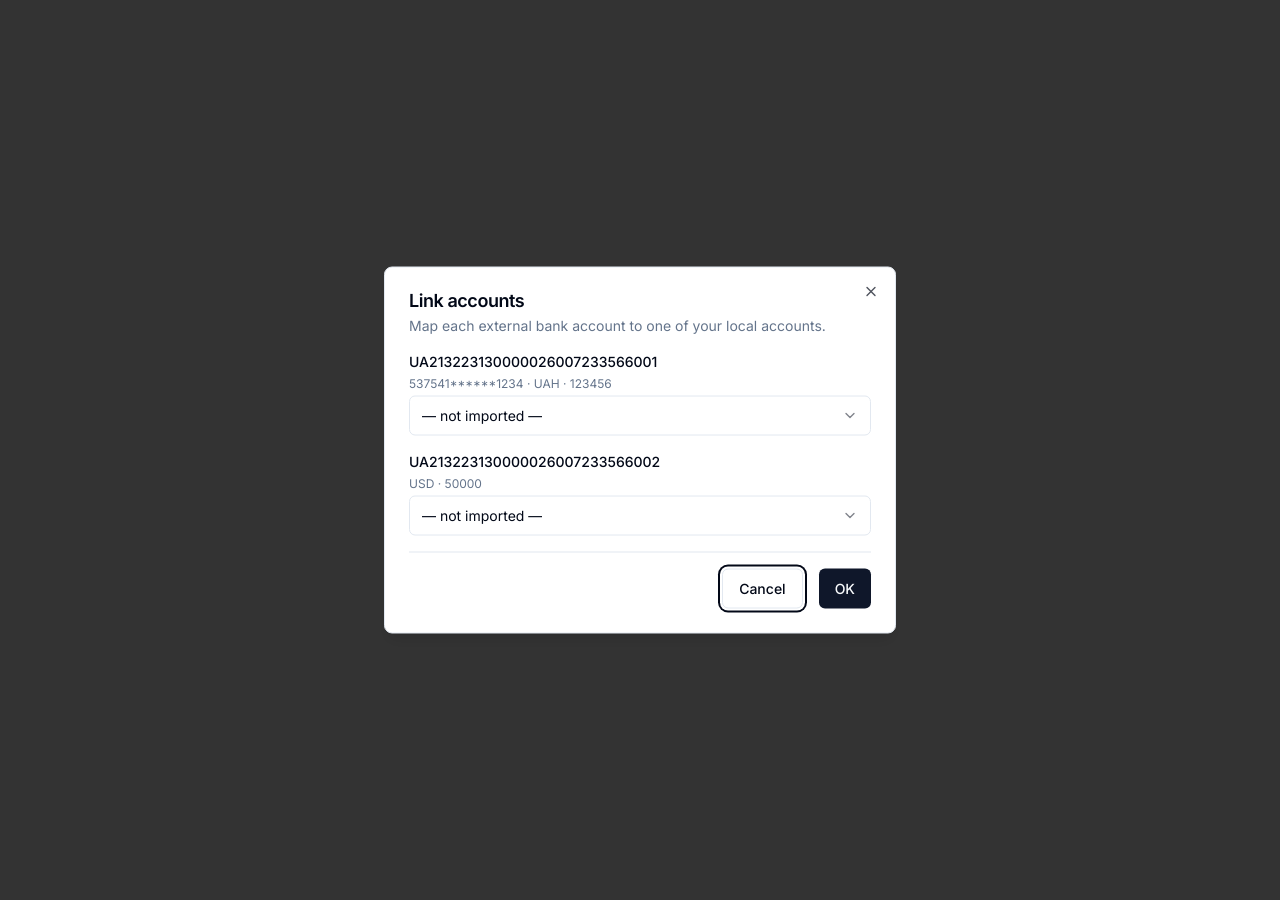
Test: LinkAccountsDialog › only offers same-currency local accounts per external account
The image size is (1280, 900).
Click the dropdown named "UA213223130000026007233566001" at x=482, y=415, box [409, 396, 871, 436]
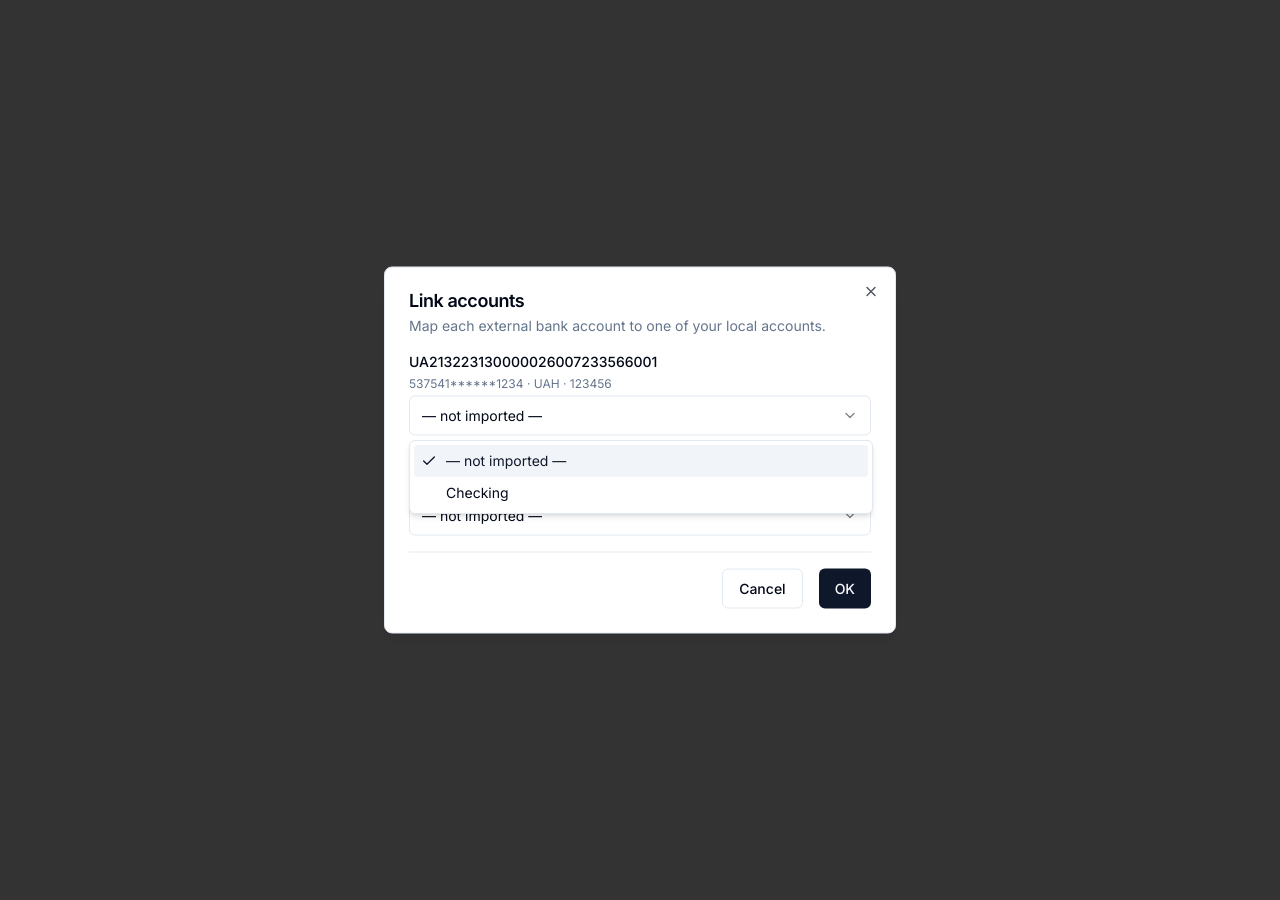
Check: the option "Savings" is not shown
Check: the option "Checking" is shown, box [446, 484, 509, 501]
Press Escape
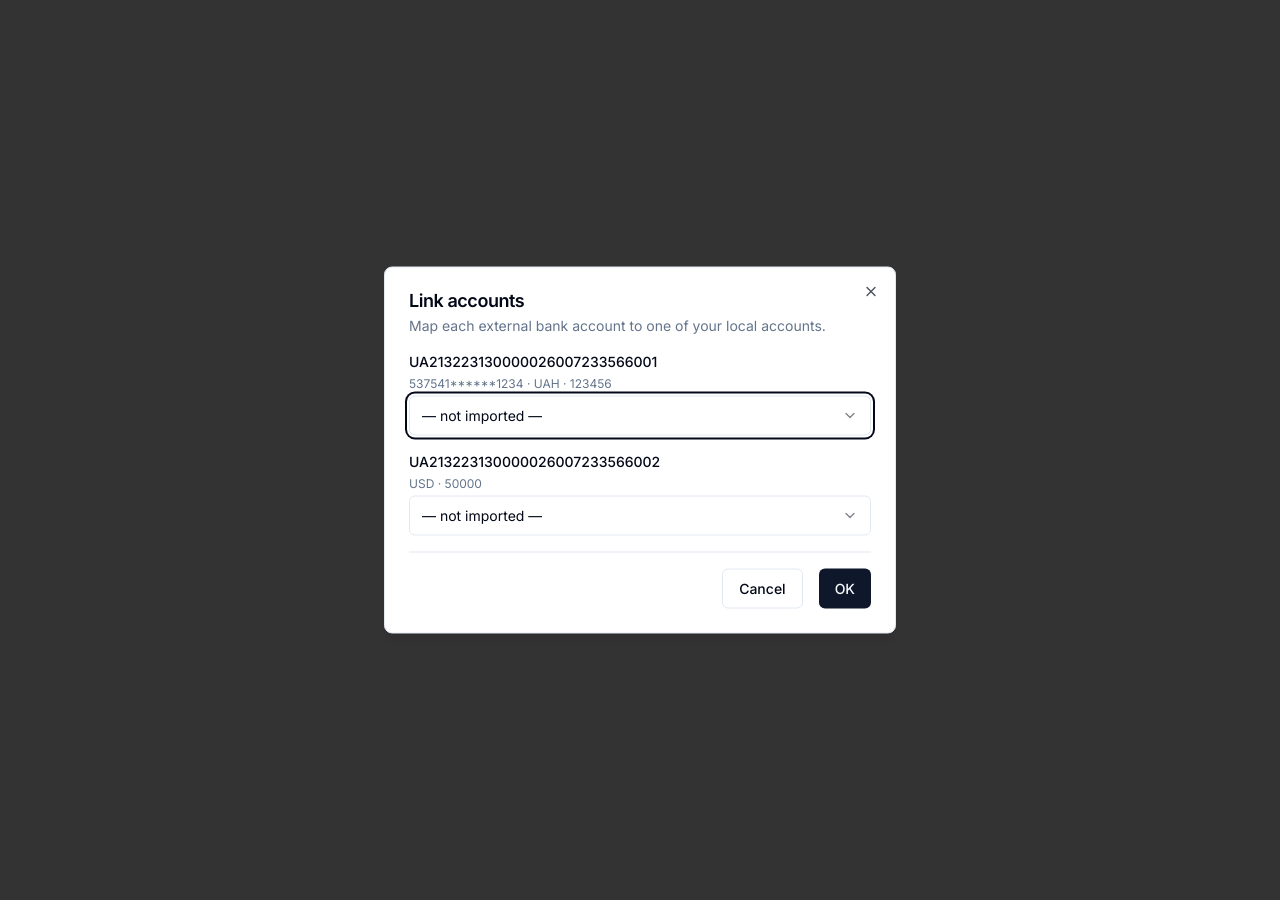
Click the dropdown named "UA213223130000026007233566002" at x=482, y=515, box [409, 496, 871, 536]
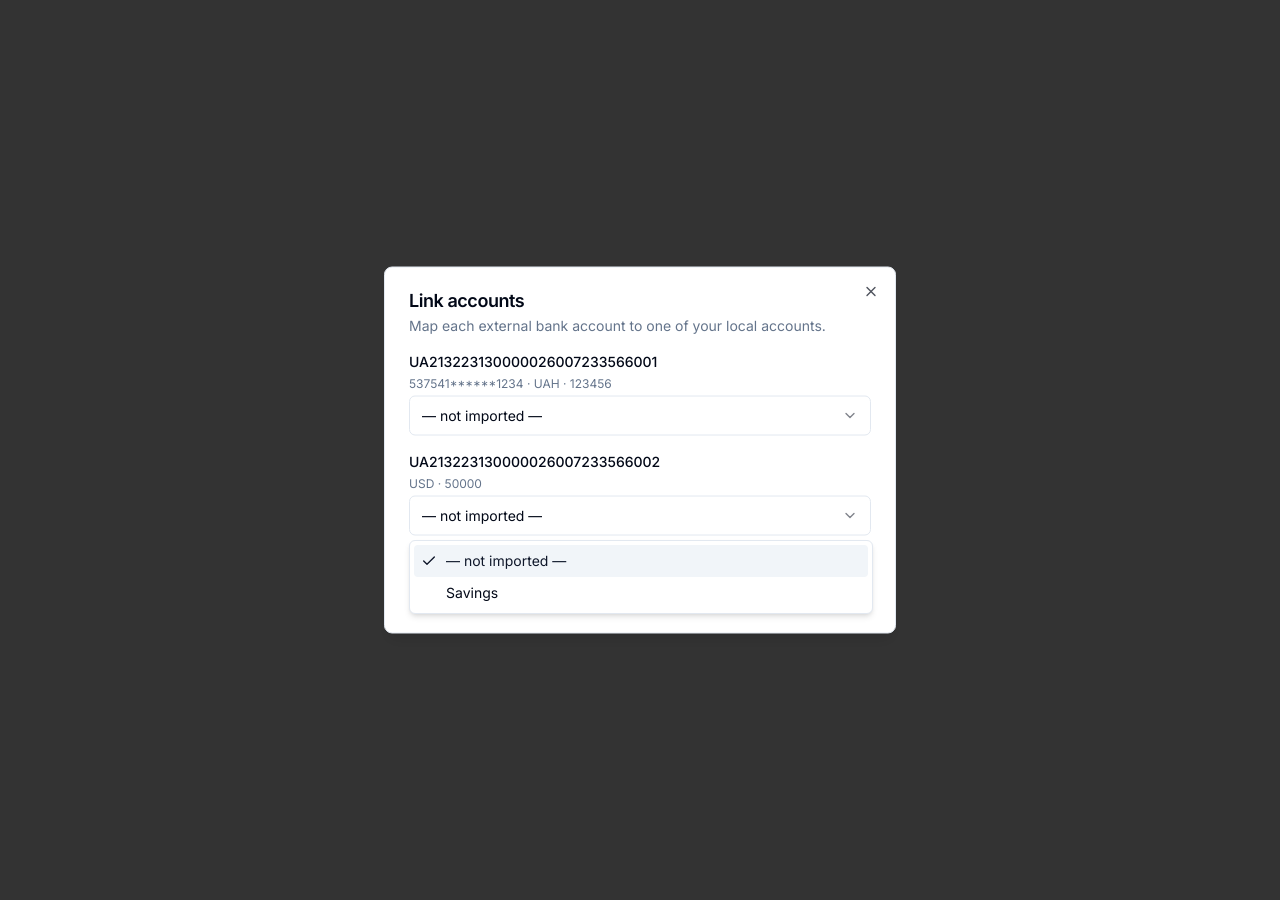
Check: the option "Checking" is not shown
Check: the option "Savings" is shown, box [446, 584, 498, 601]
